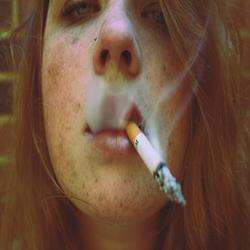smoking: (83, 92, 189, 208)
